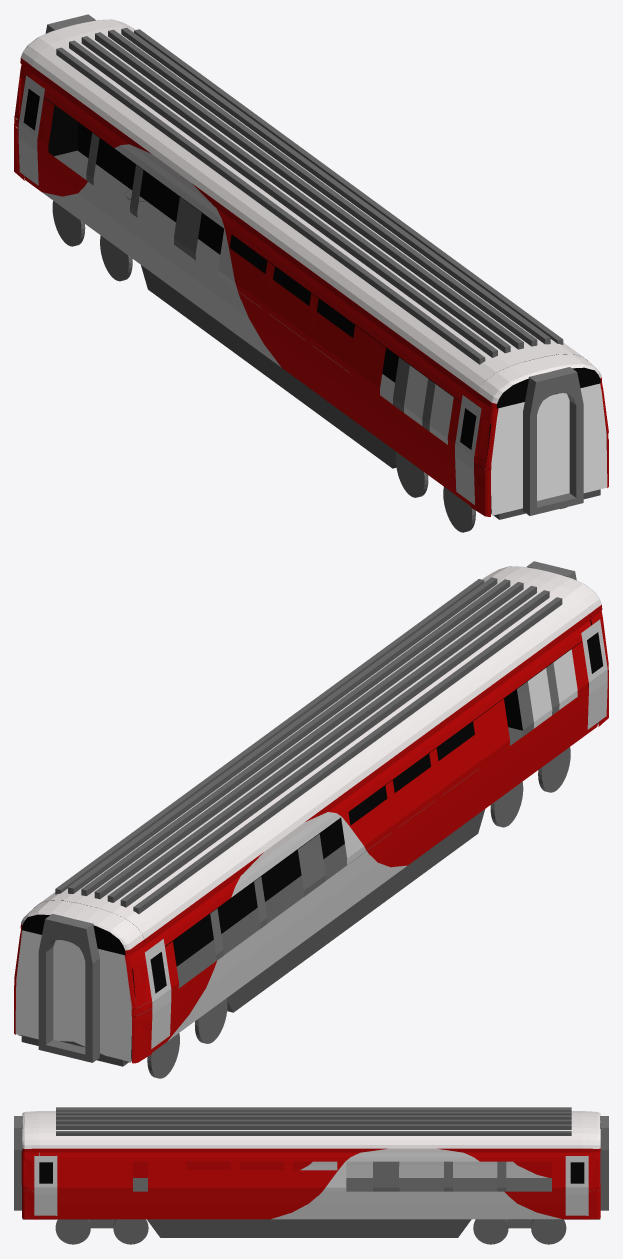
File: br-mk4-rsb-vtec.dae
3 views of the same model, one above another, from view 1: azimuth 30°, elevation 25°; view 2: azimuth 150°, elevation 25°; view 3: azimuth 270°, elevation 25° (orthographic). The views are drawn at different scales.
Parts seen in each view (by area): view 1: Suzanne_001, Plane_007, Plane_100, Plane_111, Cube_002, Cube_008, Cube_004, Cube_003, Cube, Tube_002, Cube_009, Cube_010 (+20 smaller); view 2: Suzanne_001, Plane_007, Plane_001, Plane_111, Tube_003, Cube_002, Cube_008, Cube, Cube_004, Cube_003, Cube_009, Cube_010 (+19 smaller); view 3: Plane_035, Suzanne_001, Cube, Plane_007, Plane_160, Plane_037, Cube_009, Cube_010, Cube_004, Cube_008, Cube_011, Plane_036 (+28 smaller).
Part boxes in pixels (x1,y1,x2,y2): Suzanne_001: (31,27,587,398); Plane_007: (24,151,470,505); Plane_100: (491,383,607,515); Plane_111: (77,122,449,393); Cube_002: (69,40,497,357); Cube_008: (95,32,523,349); Cube_004: (81,36,510,353); Cube_003: (56,47,485,364); Cube: (141,265,396,468); Tube_002: (522,367,583,515); Cube_009: (108,29,537,346); Cube_010: (121,27,550,344); Suzanne_001: (34,573,590,945); Plane_007: (152,695,597,1052); Plane_001: (15,930,132,1062); Plane_111: (132,697,505,996); Tube_003: (38,913,99,1062); Cube_002: (120,590,549,907); Cube_008: (94,582,523,899); Cube: (227,809,485,1012); Cube_004: (107,585,536,902); Cube_003: (133,597,562,914); Cube_009: (81,579,510,896); Cube_010: (68,577,497,893); Plane_035: (40,1195,583,1219); Suzanne_001: (39,1111,582,1152); Cube: (147,1219,471,1237); Plane_007: (133,1161,551,1177); Plane_160: (186,1161,346,1191); Plane_037: (40,1152,582,1157); Cube_009: (56,1119,571,1124); Cube_010: (56,1124,571,1129); Cube_004: (56,1111,571,1115); Cube_008: (56,1115,571,1119); Cube_011: (56,1131,571,1135); Plane_036: (57,1157,565,1161).
Bounding box in the file's own units: 2.11 × 13.39 × 2.81.
